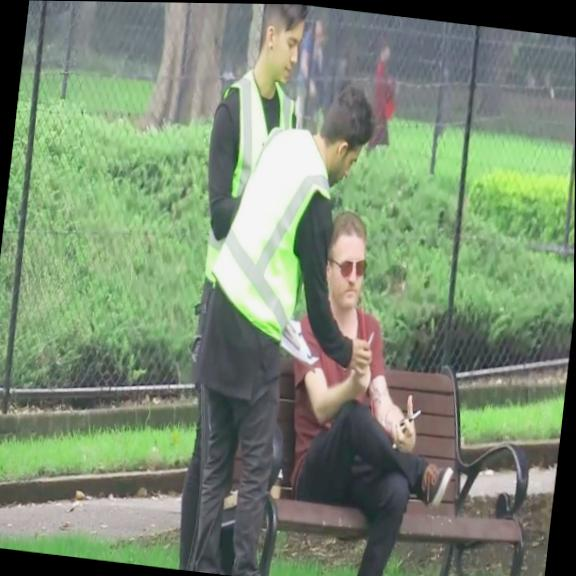safety_vest: (202, 121, 342, 346), (199, 63, 299, 289)
